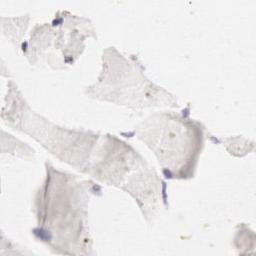nucleus: (30, 227, 51, 243), (161, 181, 168, 205), (20, 40, 29, 54), (52, 17, 64, 26), (163, 169, 173, 179), (91, 184, 101, 194), (118, 132, 137, 137), (182, 106, 190, 117), (209, 137, 222, 143), (64, 57, 72, 62)
